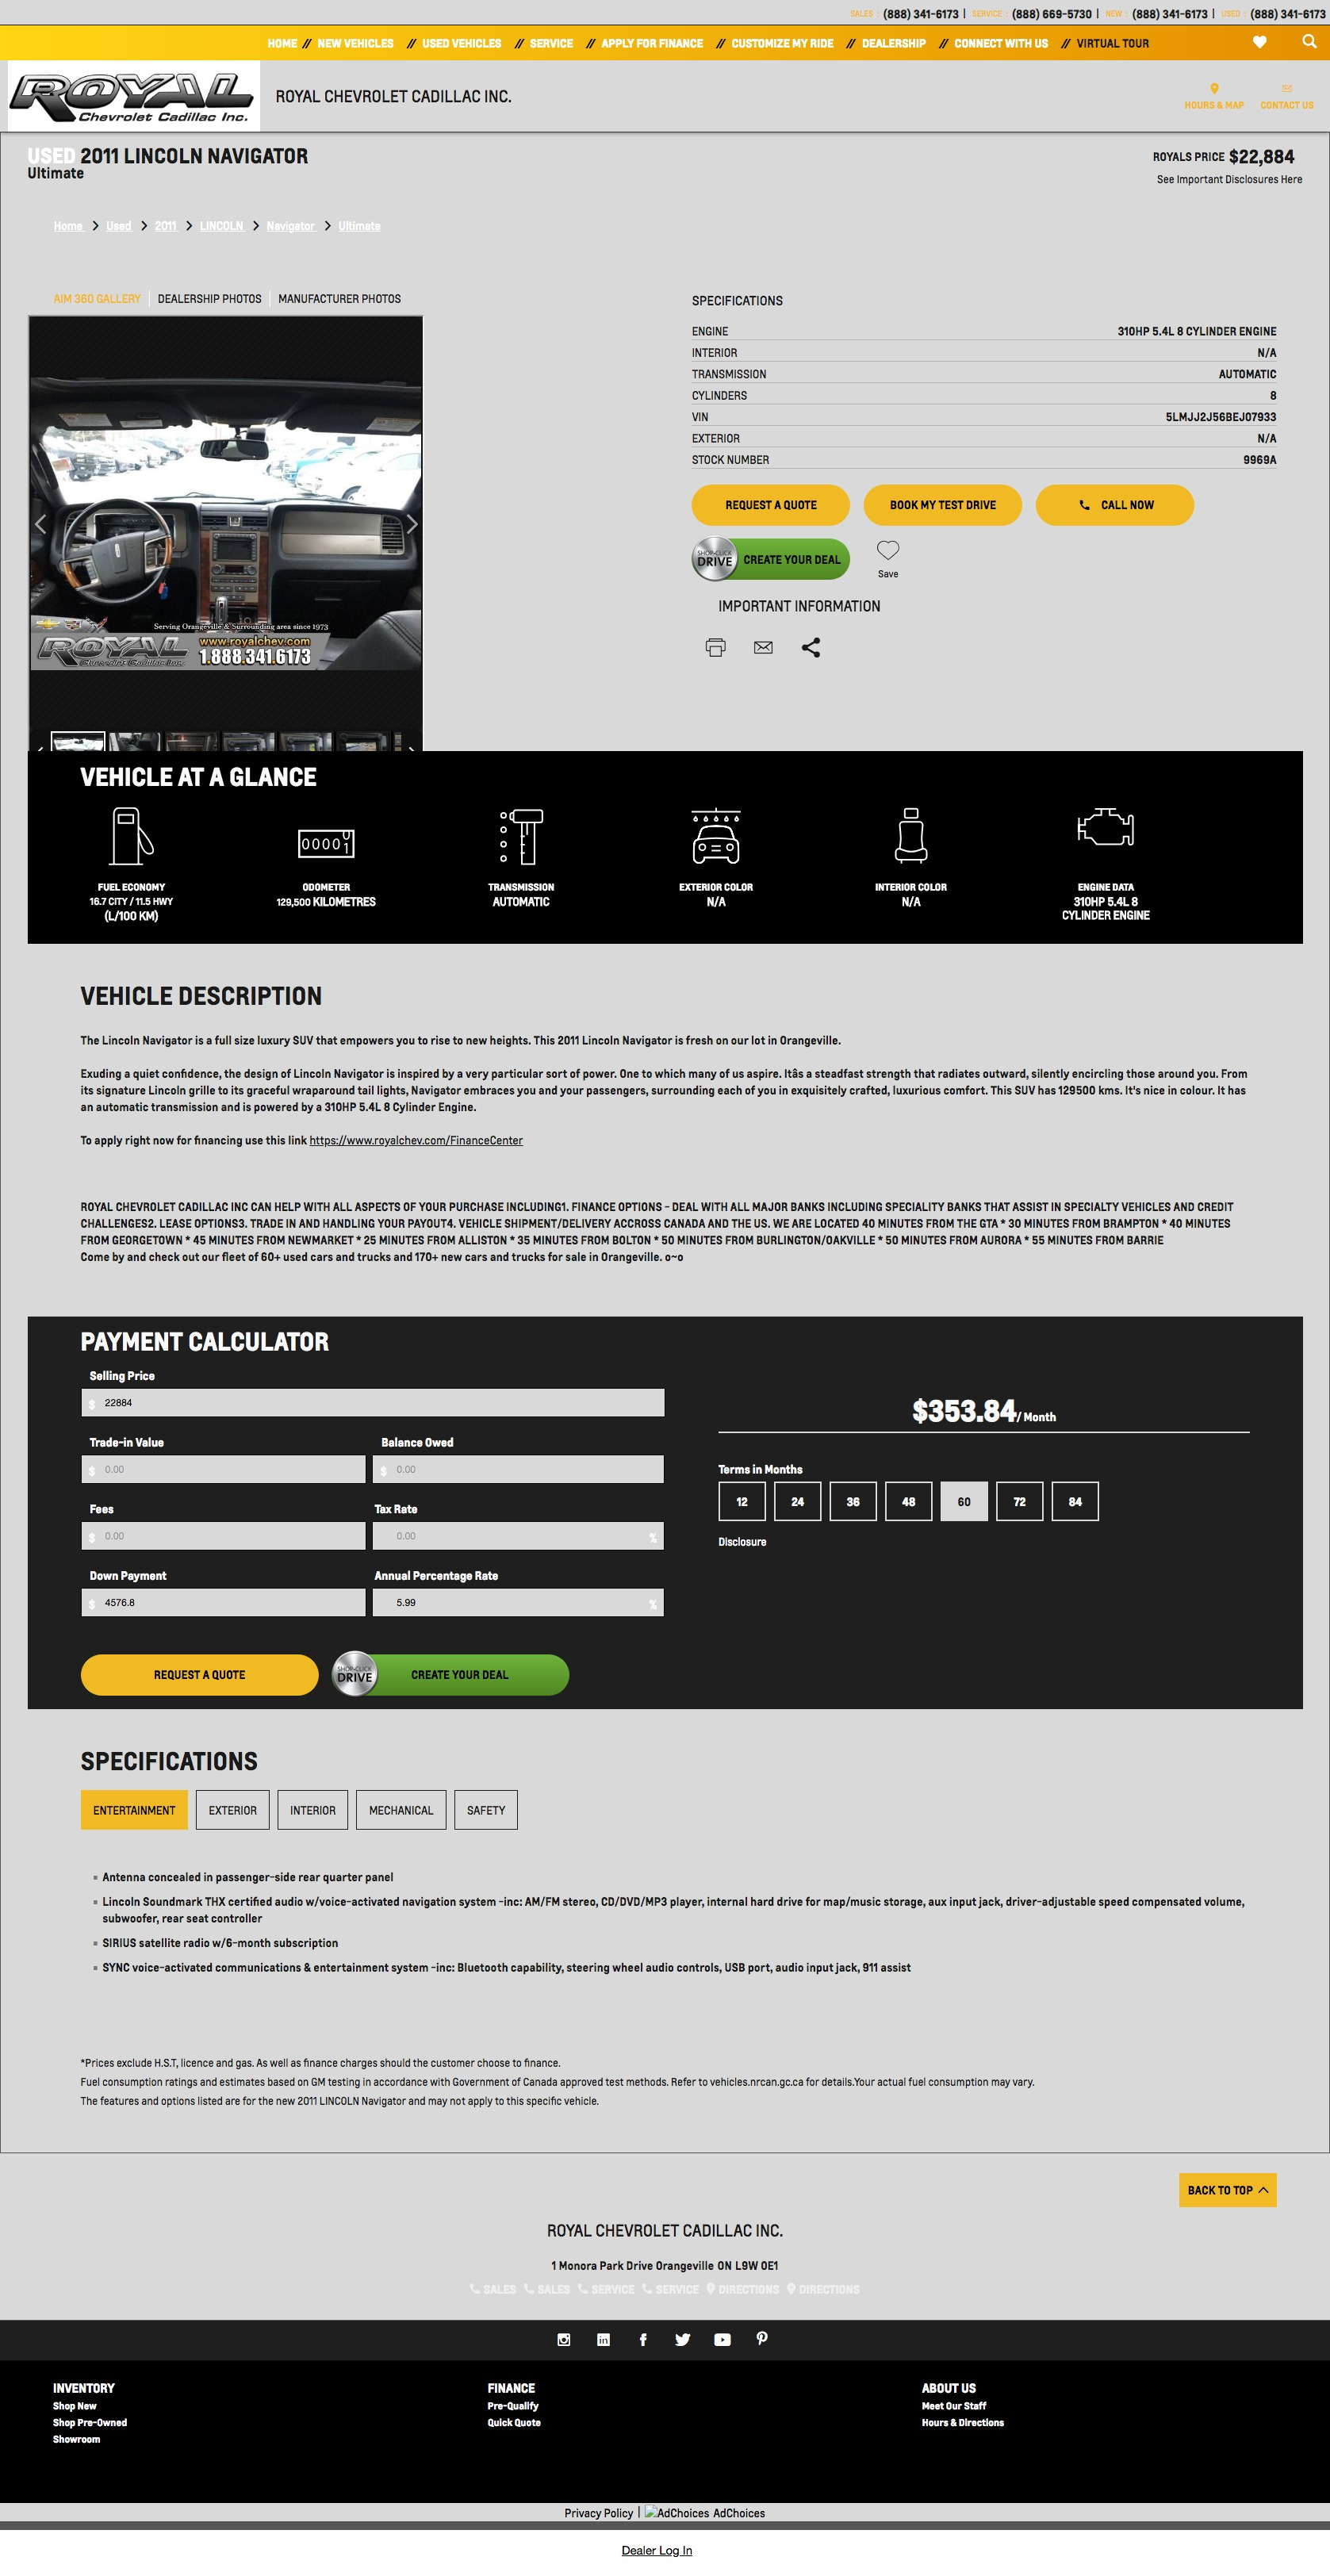car: (405, 516, 419, 536)
